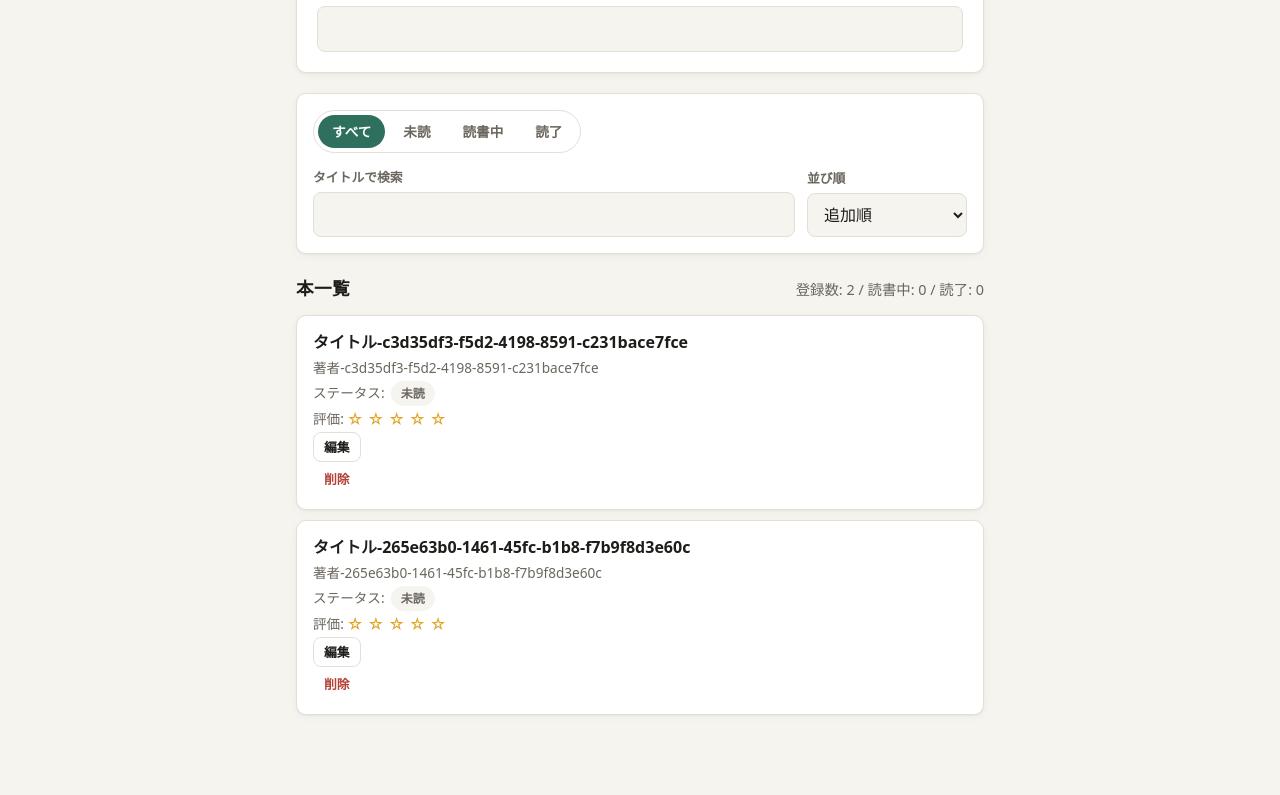
Test: App › 本の削除 › 削除ボタンをクリックすると確認のモーダルが表示され、そのキャンセルボタンをクリックするとモーダルが閉じられる
(page scrolled)
Click the 1st button "削除" at (337, 480), box left=313, top=464, right=361, bottom=495
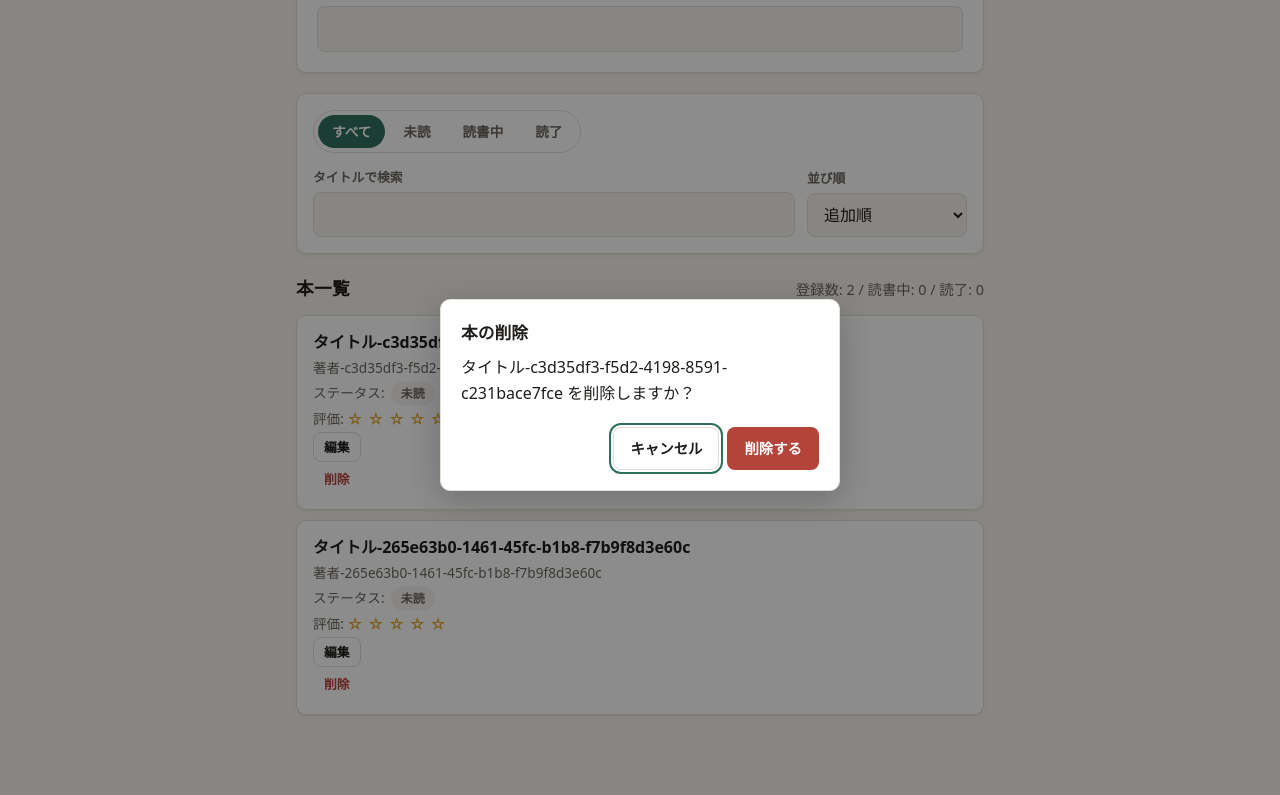
Click the button "キャンセル" at (666, 448), box left=614, top=426, right=720, bottom=470
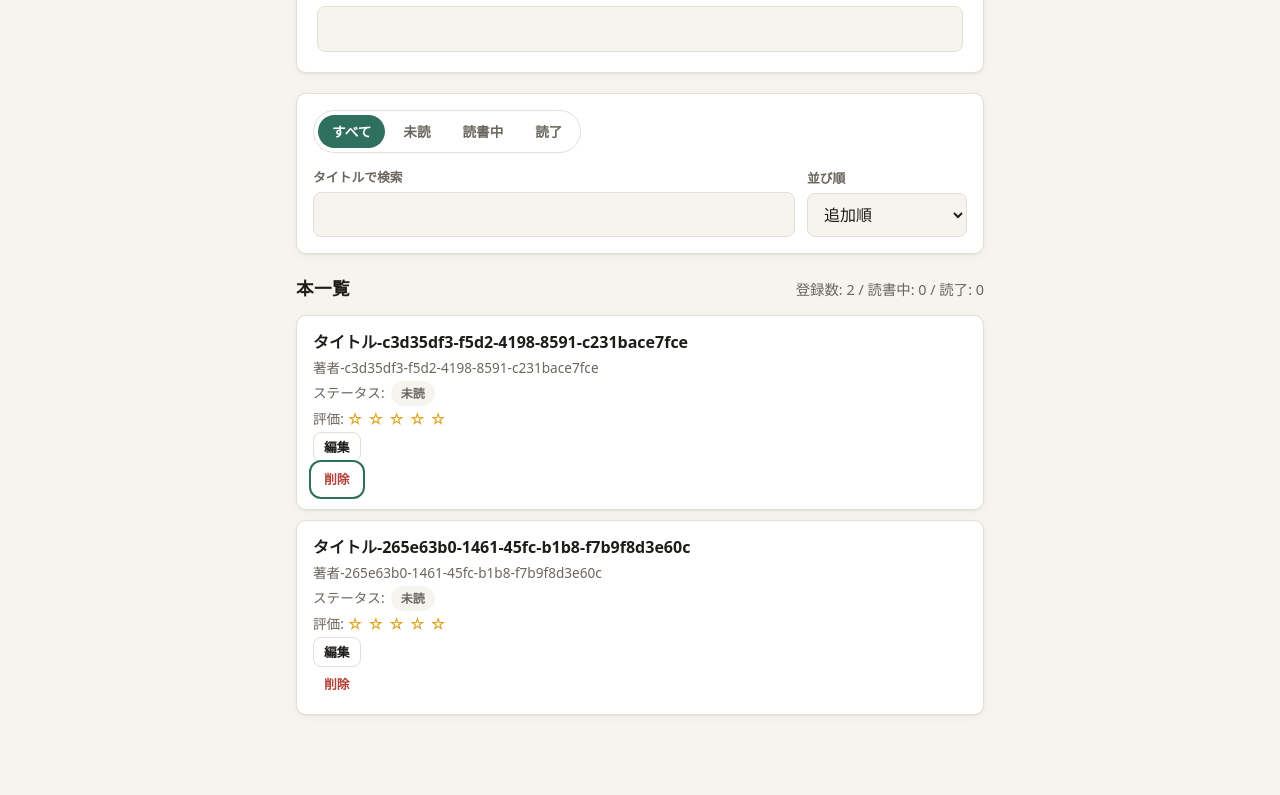
Expected: the 5th list item is shown, left=296, top=314, right=984, bottom=510
Now the heading "本の削除" is gone
